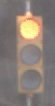Red: (7, 10, 45, 96)
